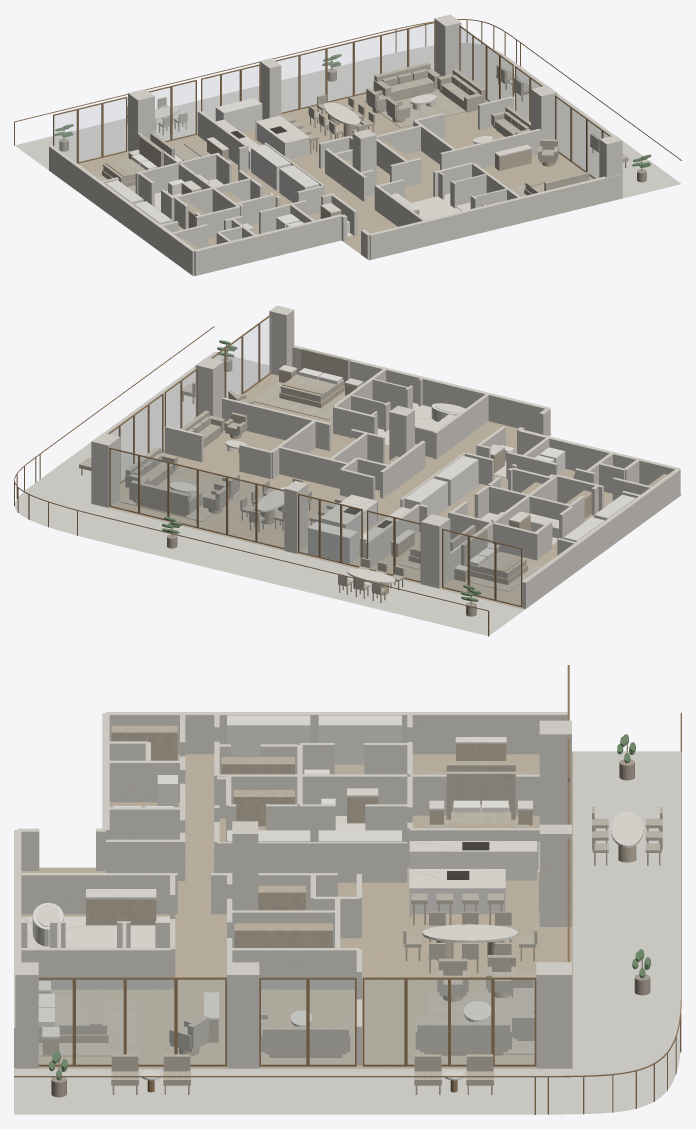
3 views of the same model, one above another, from view 1: azimuth 30°, elevation 25°; view 2: azimuth 150°, elevation 25°; view 3: azimuth 270°, elevation 25° (orthographic). The views are drawn at different scales.
Bounding box in the file's own units: 24.25 × 2.9 × 18.81.
15 materials, 6 textured.
